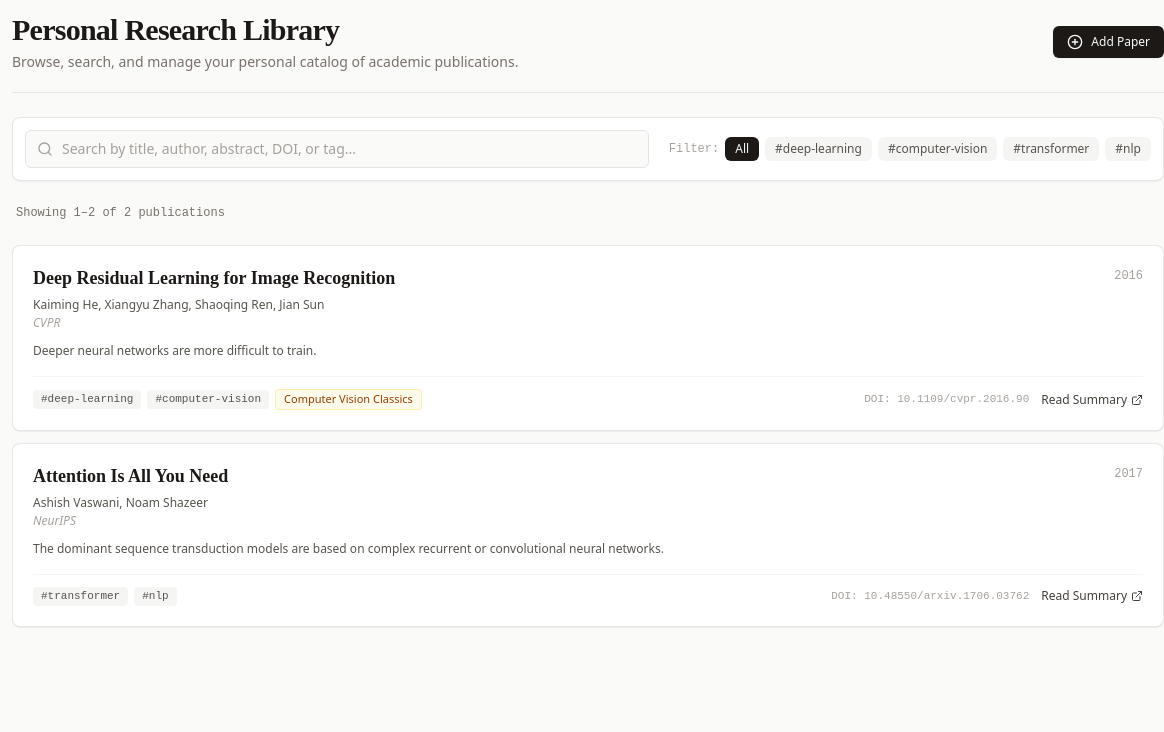
LibraryPage (Catalog & Search) › executes debounced search when user types in search input
Check: the link "Deep Residual Learning for Image Recognition" is shown, box x1=33 y1=268 x2=395 y2=288
Type "transformer" into the field with placeholder "Search by title, author, abstract, DOI, or tag..." at (337, 149), box x1=25 y1=130 x2=649 y2=168
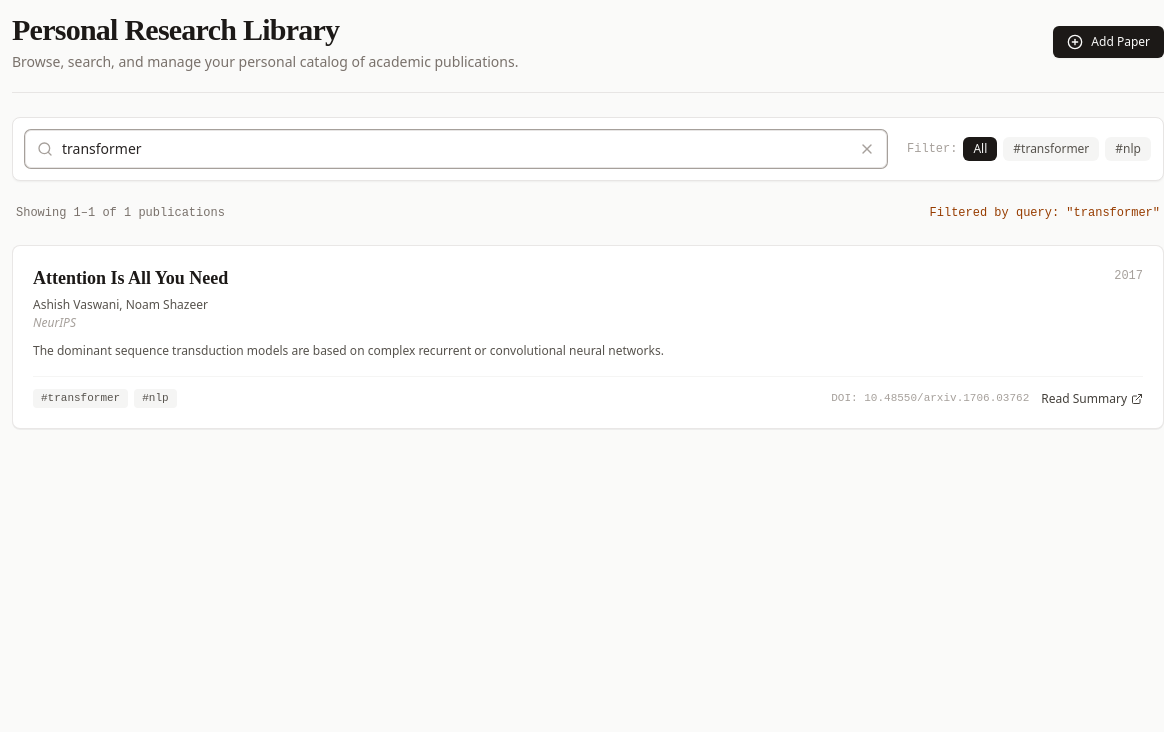
Check: the link "Attention Is All You Need" is shown, box x1=33 y1=268 x2=228 y2=288
Check: the link "Deep Residual Learning for Image Recognition" is gone
